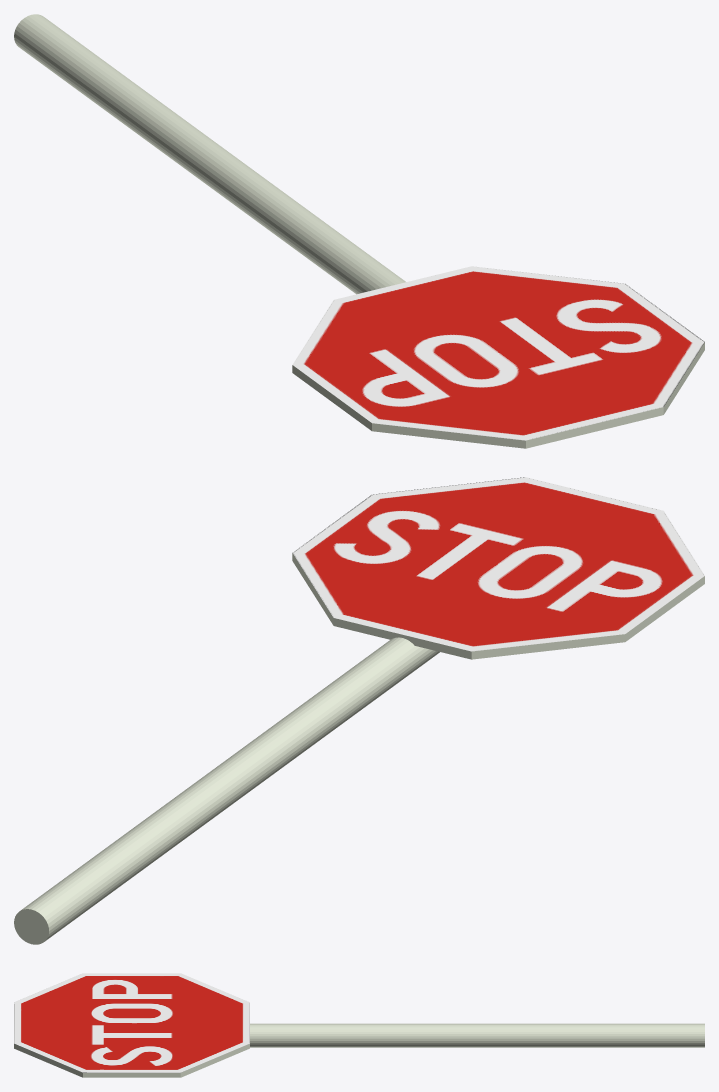
Rendered from stop_tube.glb.
3 views of the same model, one above another, from view 1: azimuth 30°, elevation 25°; view 2: azimuth 150°, elevation 25°; view 3: azimuth 270°, elevation 25° (orthographic). The views are drawn at different scales.
Visible parts, largest first — view 1: Cylinder.001, stop_tube; view 2: Cylinder.001, stop_tube; view 3: Cylinder.001, stop_tube.
Boxes of the visible parts, box(x1,y1,x2,y2) form: Cylinder.001: box(292, 266, 704, 448); stop_tube: box(14, 14, 405, 294); Cylinder.001: box(292, 477, 704, 659); stop_tube: box(14, 637, 439, 944); Cylinder.001: box(14, 973, 249, 1077); stop_tube: box(250, 1023, 704, 1047).
Size of the model in its own units: 0.0484 by 0.00528 by 0.1419.
3 materials, 1 textured.
